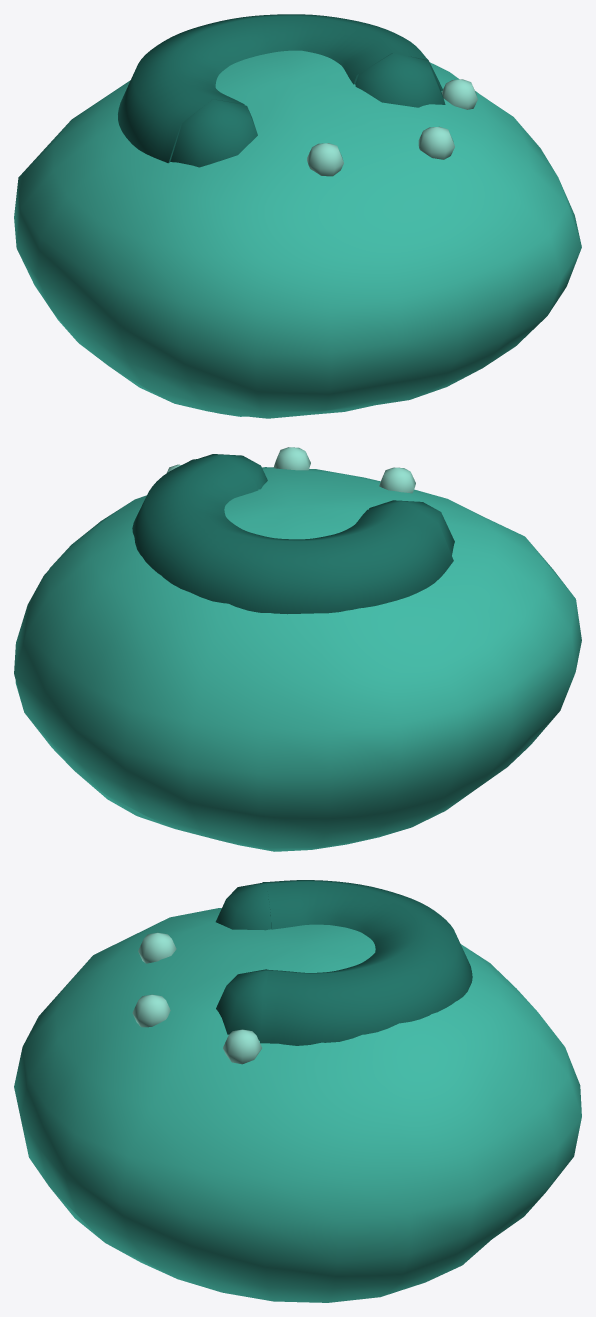
Rendered from macrophage.glb.
3 views of the same model, one above another, from view 1: azimuth 30°, elevation 25°; view 2: azimuth 150°, elevation 25°; view 3: azimuth 270°, elevation 25° (orthographic). The views are drawn at different scales.
Visible parts, largest first — view 1: IW_L2_x_macrophage; view 2: IW_L2_x_macrophage; view 3: IW_L2_x_macrophage.
Boxes of the visible parts, x1,y1,x2,y2 form: IW_L2_x_macrophage: (14,14,581,418); IW_L2_x_macrophage: (14,447,581,851); IW_L2_x_macrophage: (14,880,581,1302).
Bounding box in the file's own units: 2 × 1.29 × 2.01.
